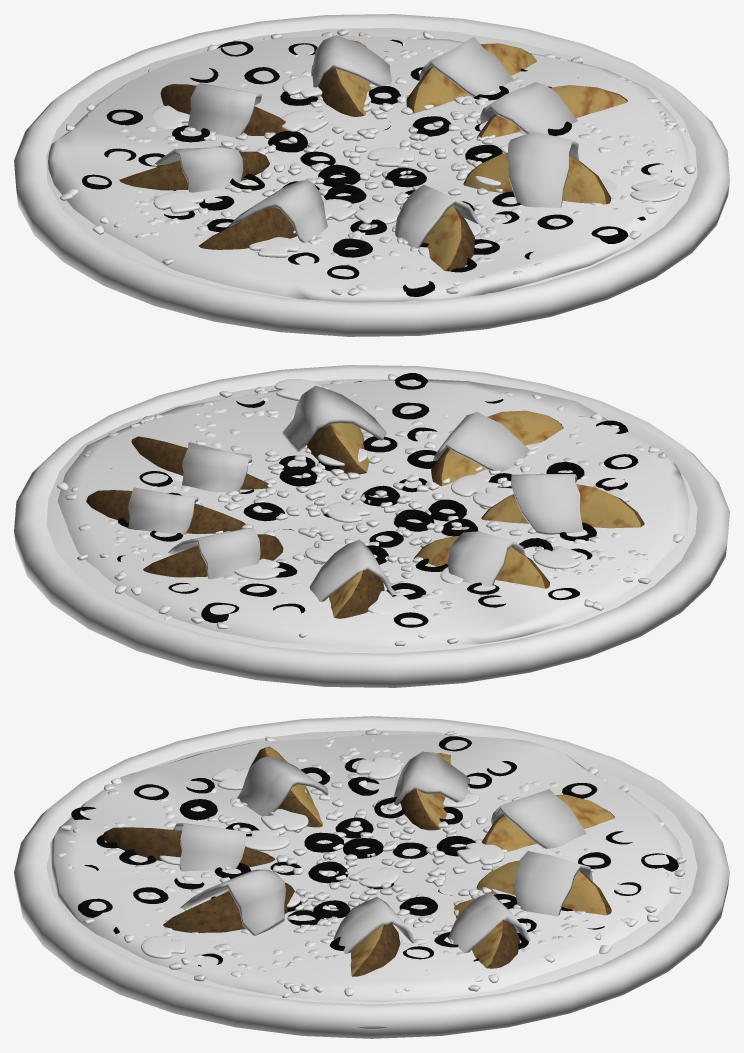
The model's file is Bacon_pizza.fbx.
3 renders of one model, top to bottom at view 1: azimuth 30°, elevation 25°; view 2: azimuth 150°, elevation 25°; view 3: azimuth 270°, elevation 25°, orthographic.
Visible parts, largest first — view 1: pizzacheese.003, pizzadow_burn_low.003, potatao.001, corn.003, Olive.002, pizzasource.003, mushroom.001; view 2: pizzacheese.003, pizzadow_burn_low.003, potatao.001, corn.003, Olive.002, pizzasource.003, mushroom.001; view 3: pizzacheese.003, pizzadow_burn_low.003, potatao.001, corn.003, Olive.002, pizzasource.003, mushroom.001.
Part boxes in pixels (x1,y1,x2,y2): pizzacheese.003: [48, 35, 688, 302]; pizzadow_burn_low.003: [14, 14, 729, 336]; potatao.001: [119, 35, 627, 271]; corn.003: [60, 29, 695, 295]; Olive.002: [82, 39, 671, 296]; pizzasource.003: [46, 28, 697, 301]; mushroom.001: [152, 76, 679, 257]; pizzacheese.003: [57, 379, 690, 646]; pizzadow_burn_low.003: [14, 365, 729, 687]; potatao.001: [86, 385, 644, 618]; corn.003: [57, 374, 683, 645]; Olive.002: [111, 373, 638, 627]; pizzasource.003: [46, 379, 697, 653]; mushroom.001: [166, 379, 629, 614]; pizzacheese.003: [50, 734, 684, 1002]; pizzadow_burn_low.003: [14, 716, 729, 1038]; potatao.001: [103, 746, 614, 976]; corn.003: [58, 728, 686, 997]; Olive.002: [71, 736, 678, 970]; pizzasource.003: [46, 730, 697, 1028]; mushroom.001: [141, 756, 515, 958].
Size of the model in its own units: 23.85 by 2.93 by 23.79.
